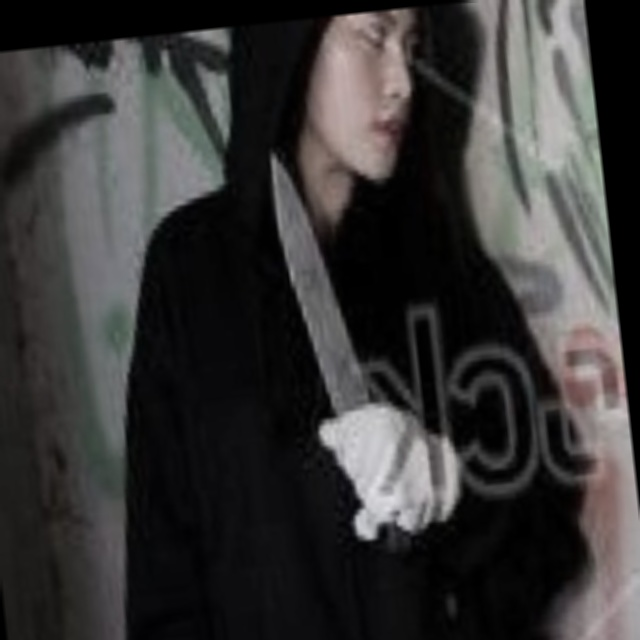Sharp-Object: (271, 143, 413, 556)
